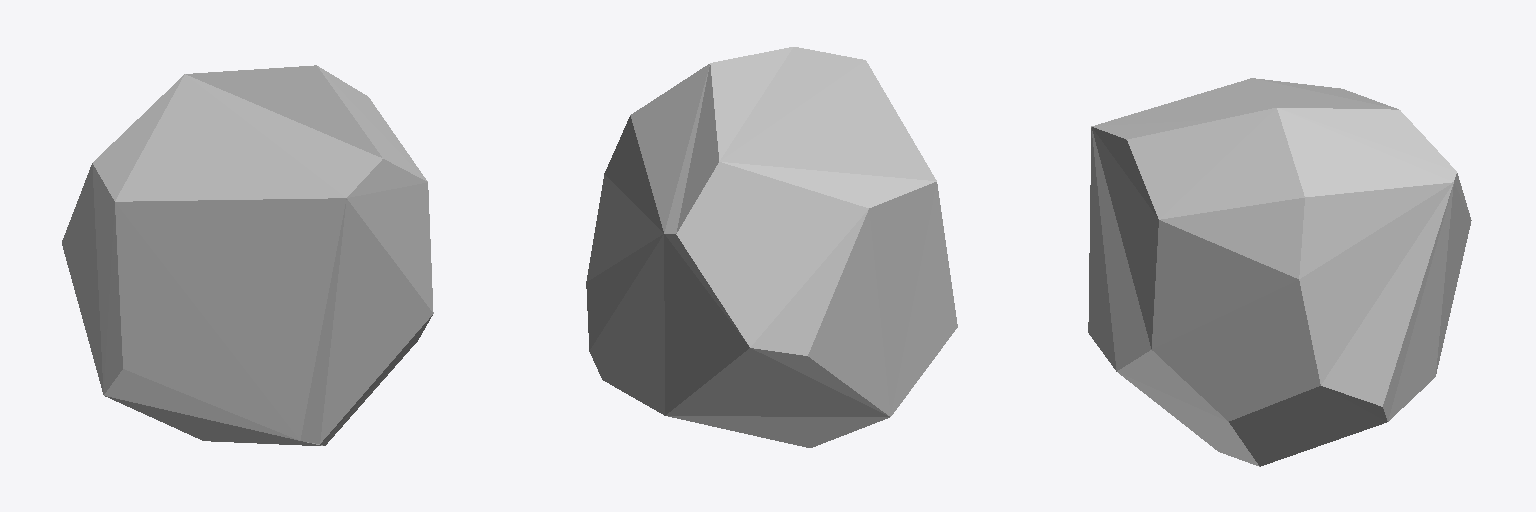
The model's file is Rock1.obj.
The picture shows the model from 3 angles: view 1: azimuth 30°, elevation 25°; view 2: azimuth 150°, elevation 25°; view 3: azimuth 270°, elevation 25°; orthographic projection.
Visible parts, largest first — view 1: Rock_1; view 2: Rock_1; view 3: Rock_1.
Part boxes in pixels (x1,y1,x2,y2): Rock_1: (62,65,433,445); Rock_1: (586,47,957,447); Rock_1: (1088,78,1471,466).
Size of the model in its own units: 1.59 by 1.66 by 1.63.